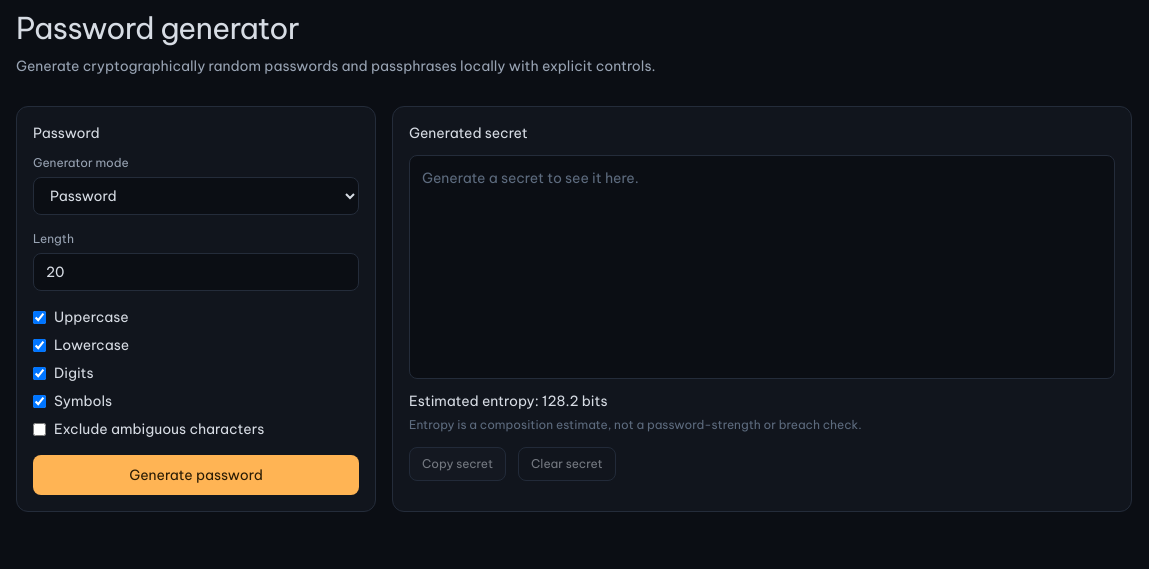
Test: Password Generator tool › switches to configured passphrase mode
Select "Passphrase" in the dropdown labelled "Generator mode" at (196, 196), box [33,177,359,215]
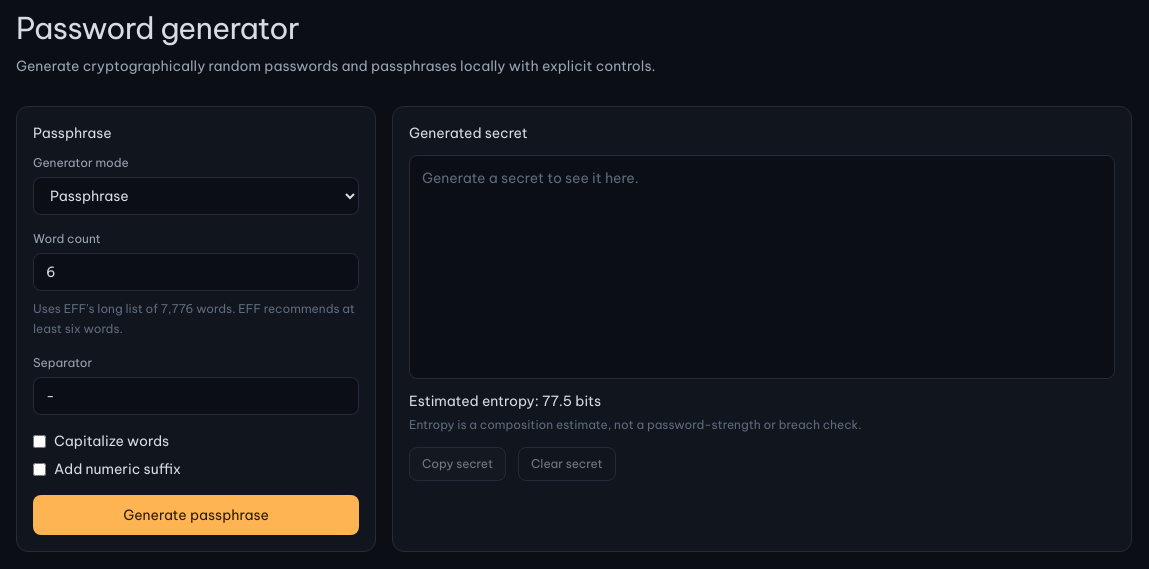
Replace the text in the number field labelled "Word count" with "4" at (196, 272), box [33,253,359,291]
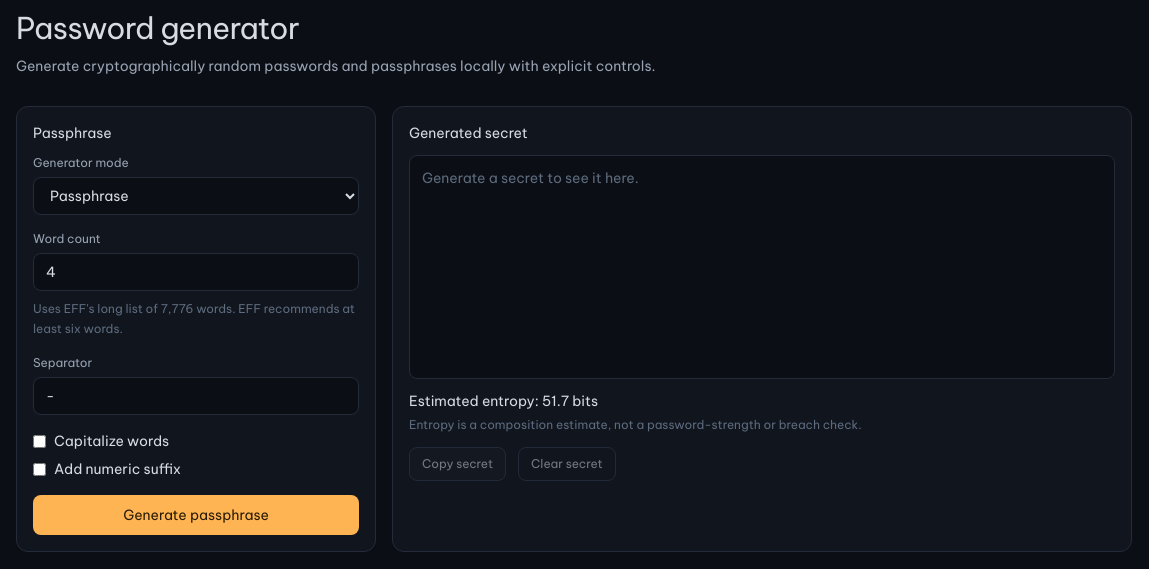
Click the checkbox labelled "Add numeric suffix" at (40, 469), box [33,462,46,476]
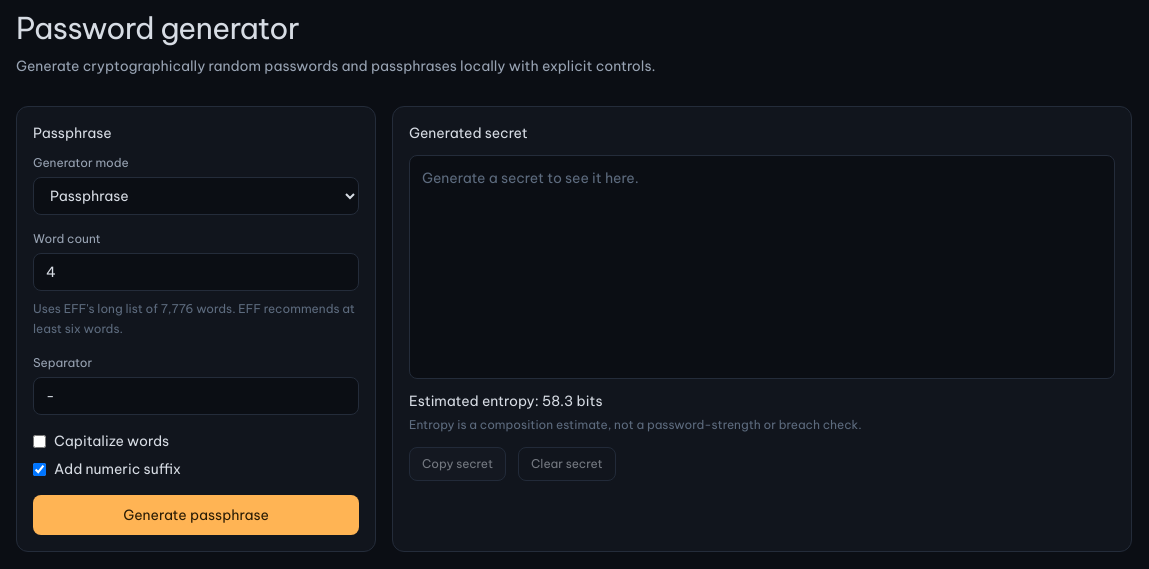
Click the button "Generate passphrase" at (196, 515), box [33,495,359,535]
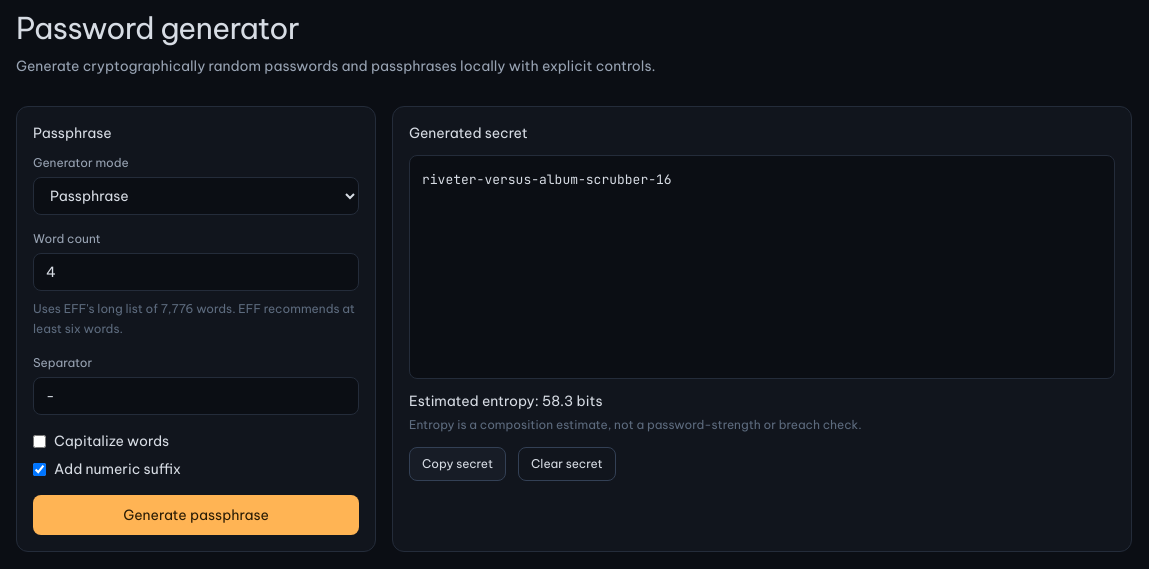
Now the text "58.3 bits" is shown, box [542,392,602,410]
Now the button "Copy secret" is enabled, box [409,447,506,481]
